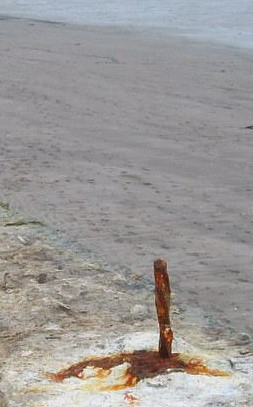Corrosion: (42, 349, 233, 392)
Exposed reinforcement: (153, 258, 175, 357)
